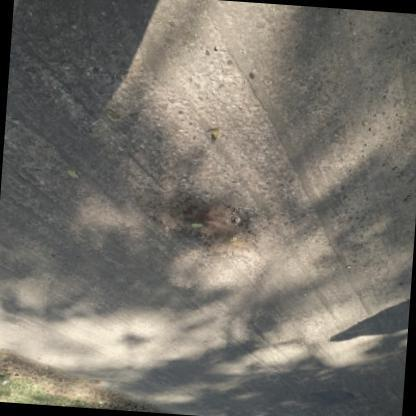pothole: (152, 193, 260, 258)
